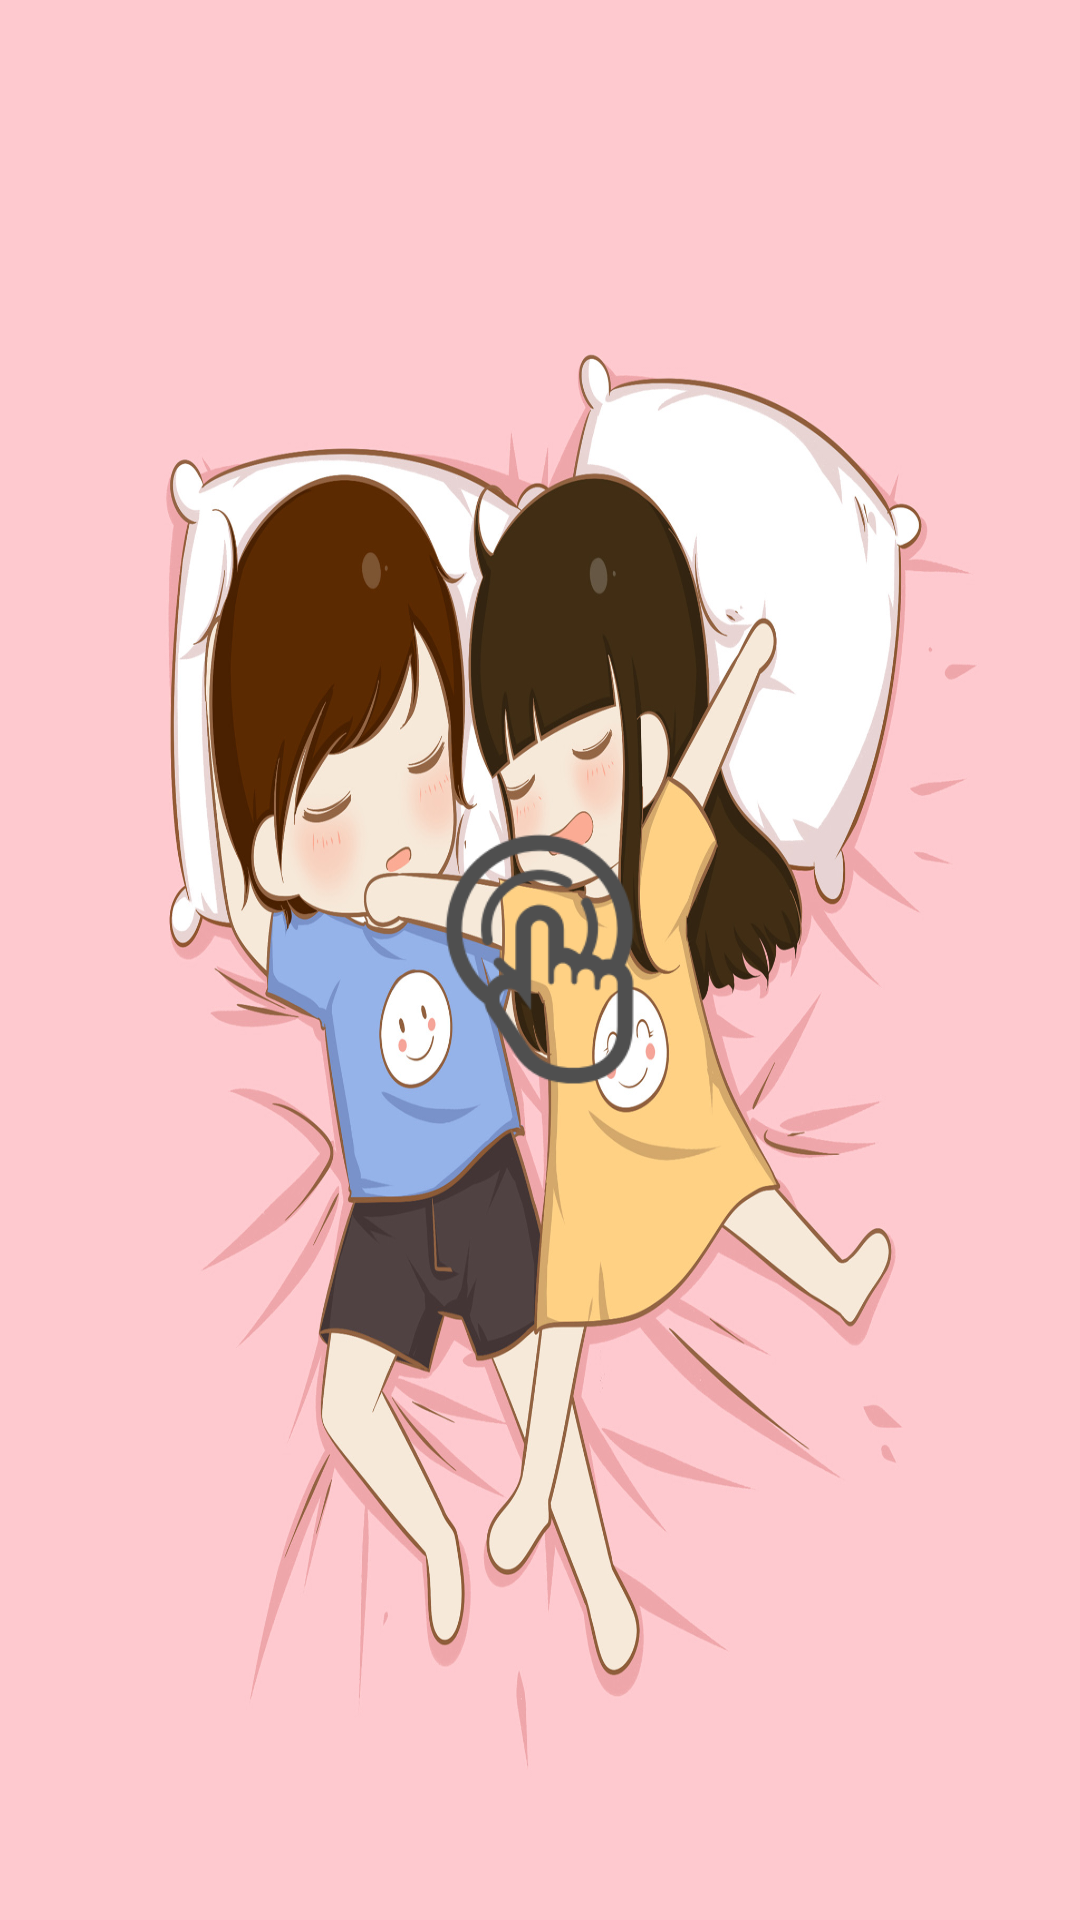

Point at icon controls on the screen. Image size 1080w x 1920h, points as [x,y].
start: [539,959]
